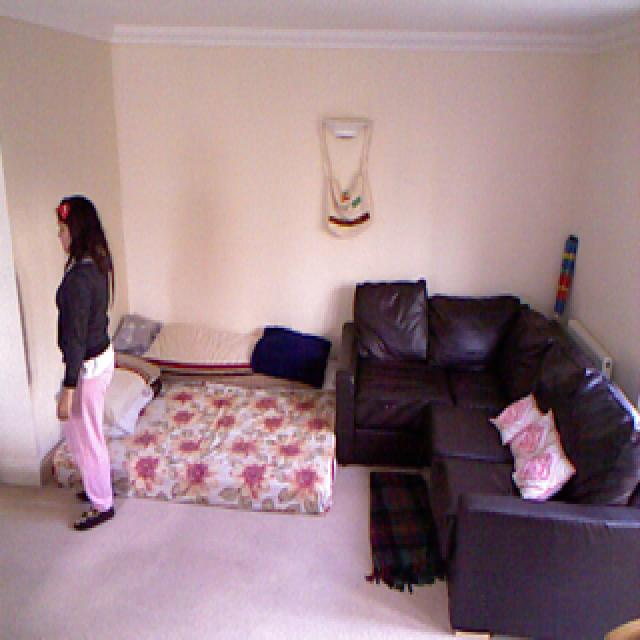standing: (52, 197, 118, 532)
